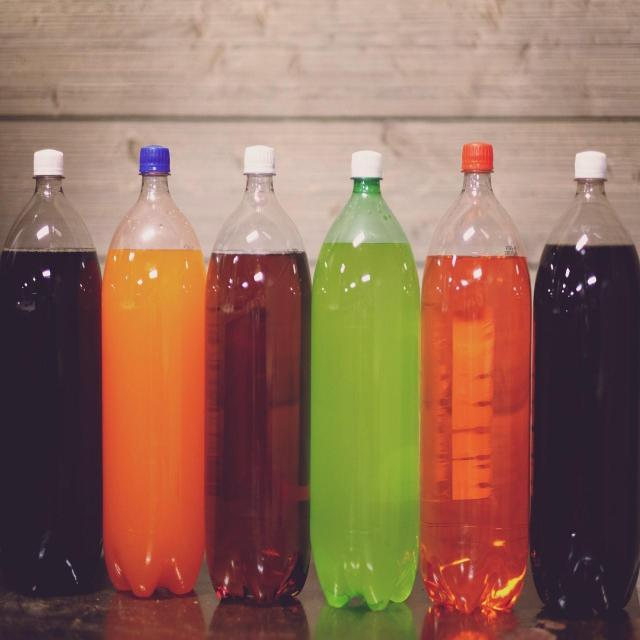bottle-plastic: (421, 142, 535, 624), (531, 146, 640, 624), (308, 147, 420, 609), (101, 142, 206, 601), (207, 143, 312, 602), (0, 145, 105, 603)
